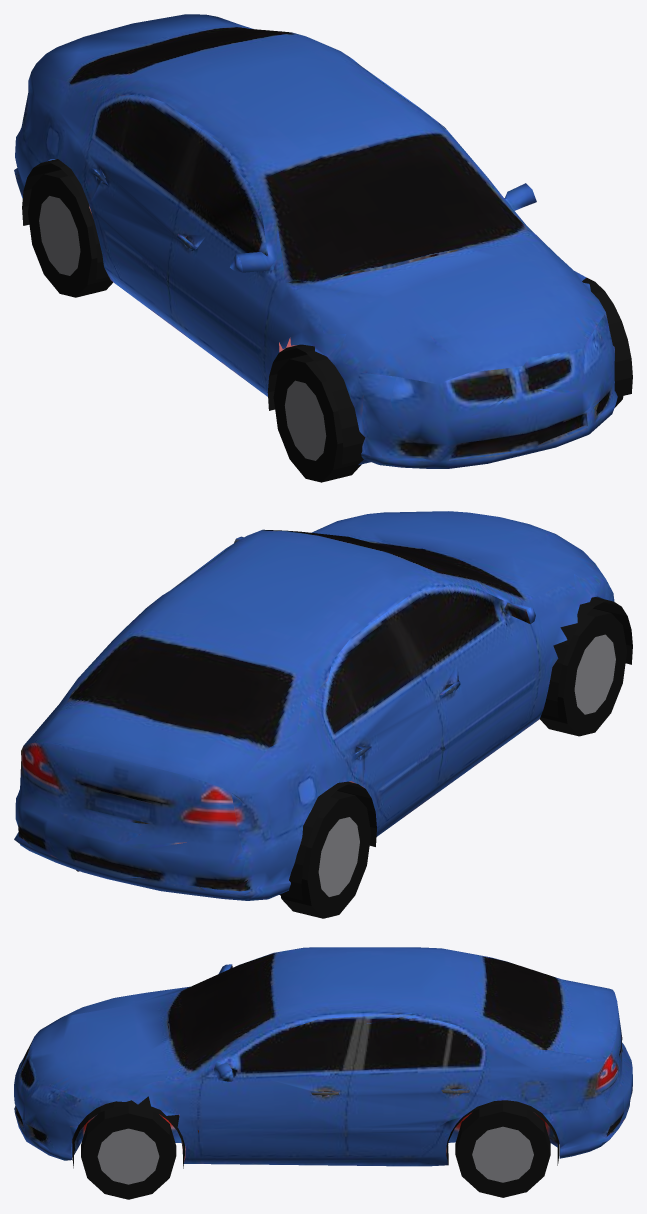
The model's file is saloon-blue.glb.
3 views of the same model, one above another, from view 1: azimuth 30°, elevation 25°; view 2: azimuth 150°, elevation 25°; view 3: azimuth 270°, elevation 25° (orthographic). The views are drawn at different scales.
Visible parts, largest first — view 1: saloon, wheel_fr, wheel_rr; view 2: saloon, wheel_rr, wheel_fr; view 3: saloon, wheel_rl, wheel_fl.
Part boxes in pixels (x1,y1,x2,y2): saloon: [14, 14, 632, 468]; wheel_fr: [273, 354, 363, 482]; wheel_rr: [28, 170, 112, 297]; saloon: [14, 511, 632, 900]; wheel_rr: [280, 791, 371, 918]; wheel_fr: [540, 608, 626, 736]; saloon: [14, 947, 632, 1168]; wheel_rl: [455, 1103, 550, 1197]; wheel_fl: [81, 1105, 176, 1199].
Bounding box in the file's own units: 1.88 × 1.41 × 4.5.
1 material, 1 textured.
